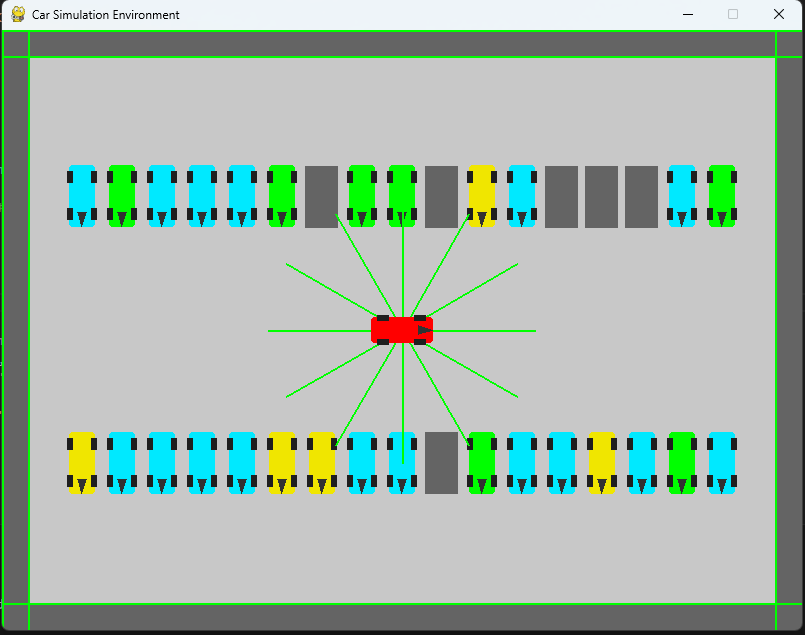ControlledCar: (353, 304, 447, 360)
ParkedCar: (706, 428, 743, 503), (382, 160, 420, 230), (303, 428, 341, 498), (144, 160, 182, 229), (59, 163, 99, 228), (223, 160, 259, 232), (264, 159, 298, 235), (463, 160, 499, 231), (463, 427, 499, 498), (186, 161, 220, 236), (385, 426, 420, 498), (183, 428, 218, 499), (665, 428, 700, 498), (666, 160, 700, 231), (64, 426, 98, 497), (703, 161, 738, 229), (347, 430, 381, 499), (105, 432, 141, 497), (264, 432, 300, 496), (226, 431, 259, 500), (104, 162, 138, 228), (626, 429, 659, 497), (502, 166, 536, 231), (586, 430, 618, 499), (346, 162, 379, 228), (506, 430, 539, 496), (546, 432, 579, 497), (147, 429, 176, 500)
ParkingSpot: (420, 160, 461, 236), (543, 161, 581, 234), (585, 160, 620, 236), (625, 158, 659, 234), (424, 428, 458, 499), (302, 163, 338, 230)
